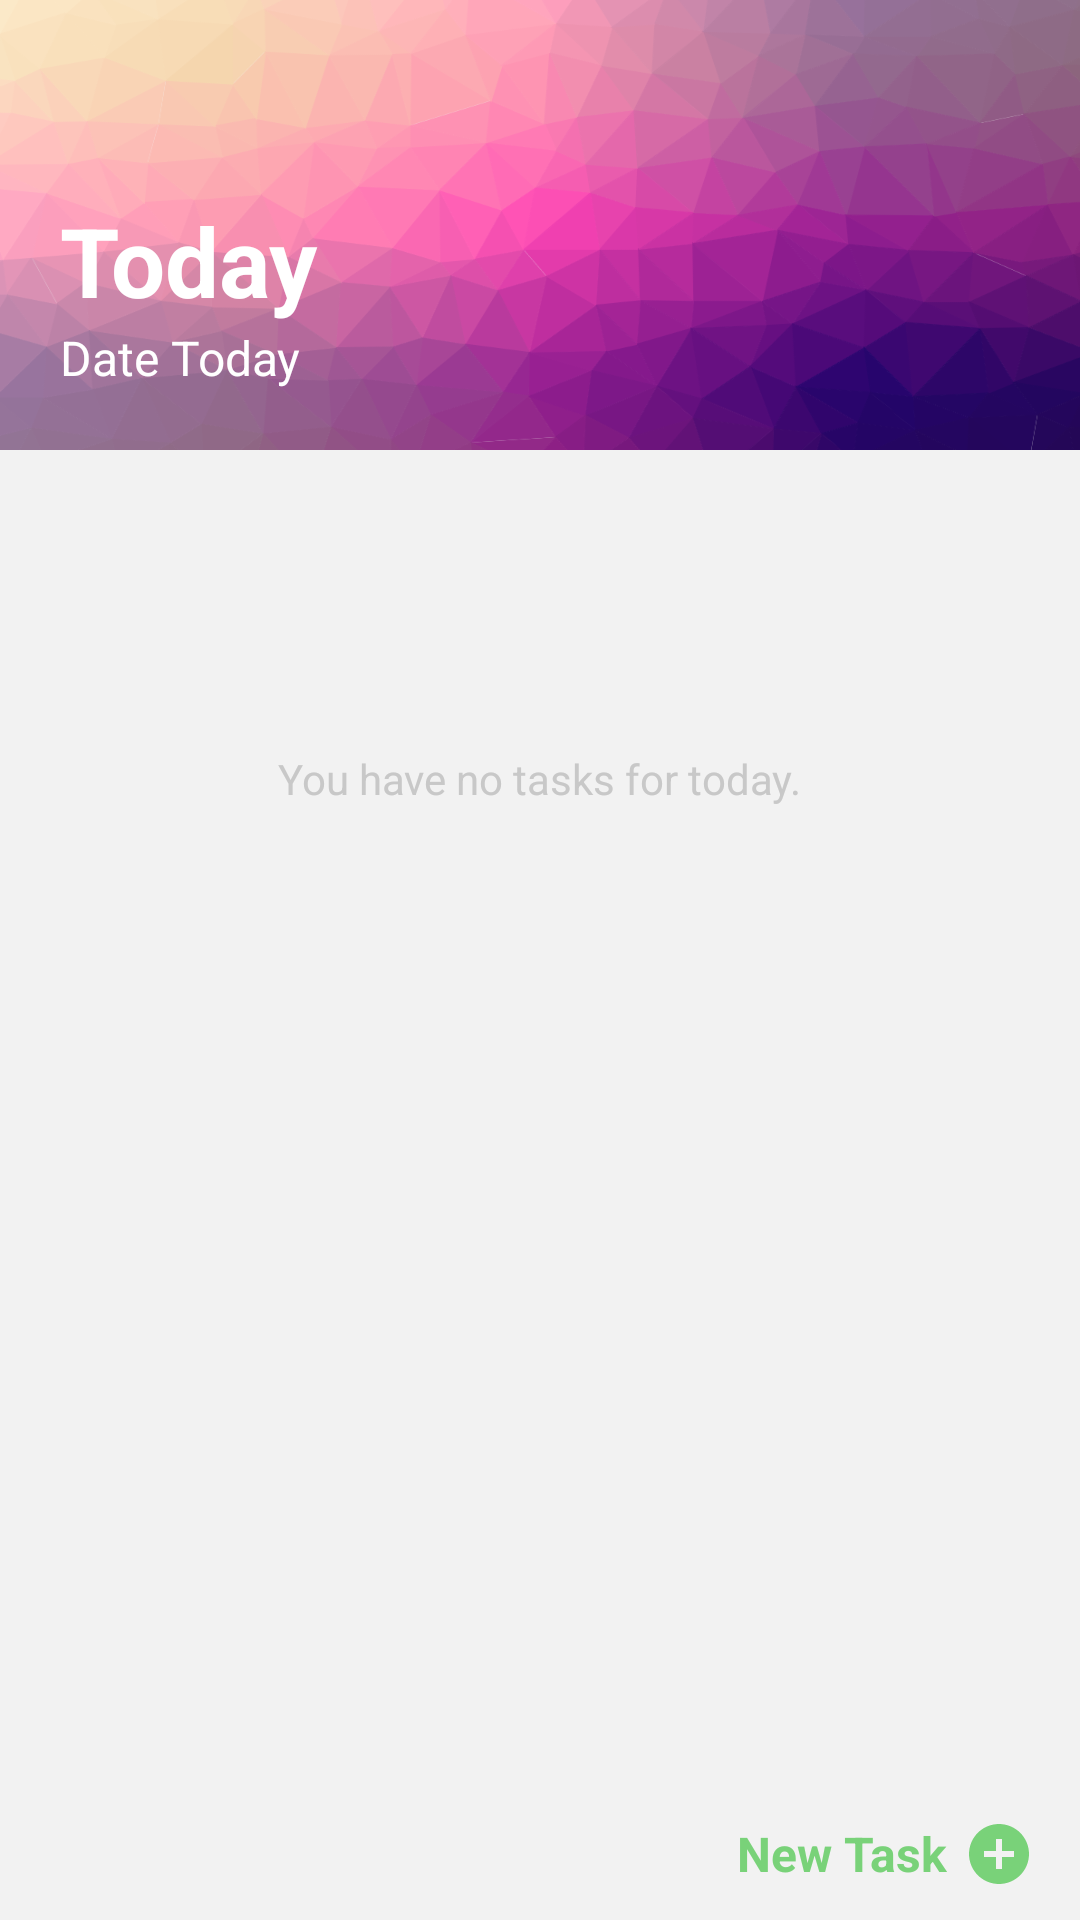

Named icons in this screenshot (1080*1920) and their centers, (x,y):
create: (999,1854)
